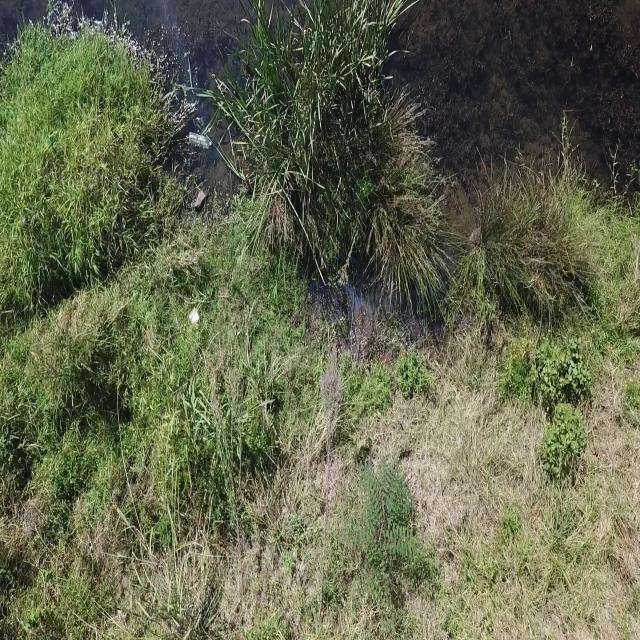Mysore-Thorn-Weed: (345, 458, 426, 595)
